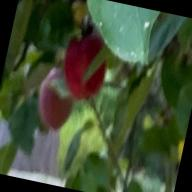Apples: (57, 30, 112, 102), (32, 64, 80, 132)
